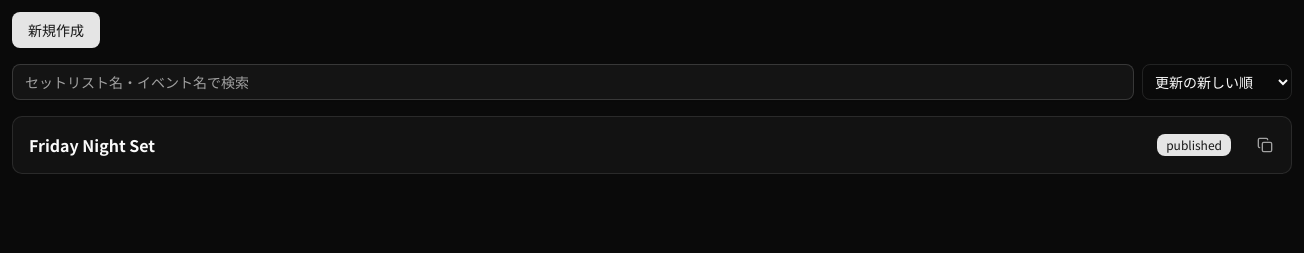
it: SetlistList 複製 › shows an error and stays on the list when duplication fails
The width and height of the screenshot is (1304, 253).
expect the text "Friday Night Set" is shown: met, box [29,133,155,157]
Click the button named "Friday Night Set を複製". click: (1265, 145)
box: [1247,127,1283,163]
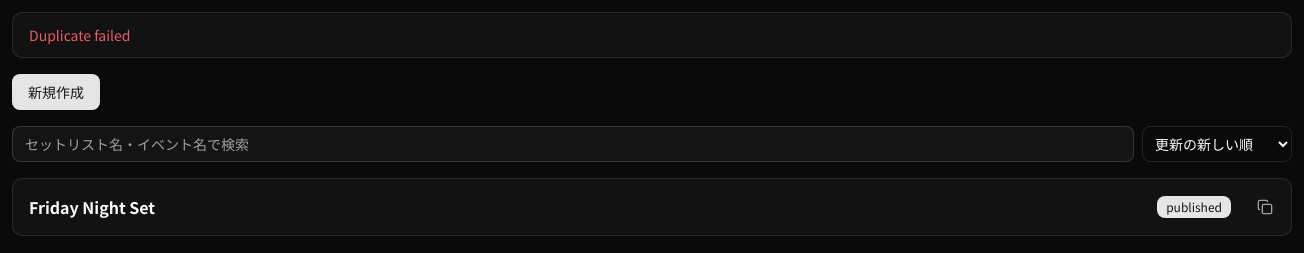
expect the text "Duplicate failed" is shown: met, box [29,25,130,45]
